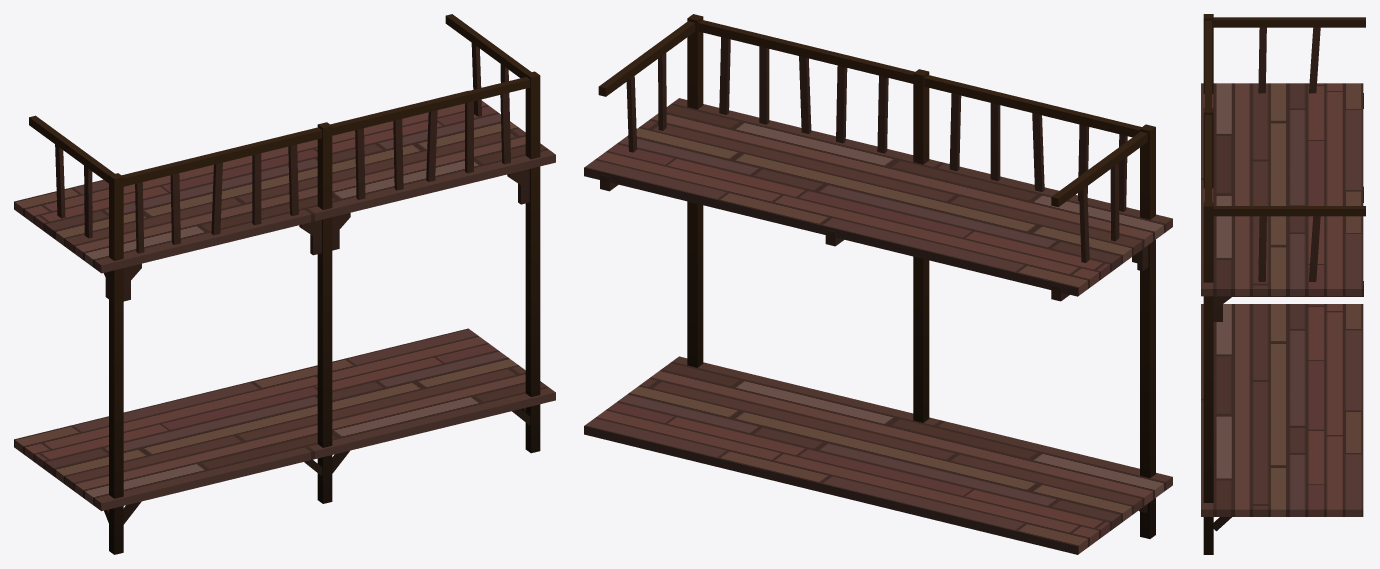
The model's file is Deck 6M v05.glb.
3 renders of one model, left to right at view 1: azimuth 30°, elevation 25°; view 2: azimuth 150°, elevation 25°; view 3: azimuth 270°, elevation 25°, orthographic. The views are drawn at different scales.
Parts seen in each view (by area): view 1: Deck 6M v05; view 2: Deck 6M v05; view 3: Deck 6M v05.
Part boxes in pixels (left/top/right/bottom): Deck 6M v05: left=14, top=14, right=555, bottom=554; Deck 6M v05: left=584, top=14, right=1172, bottom=554; Deck 6M v05: left=1201, top=14, right=1365, bottom=554.
Size of what is drawn, in the model's own units: 6 by 4.74 by 2.03.
Materials: 2 (2 with a texture image).
